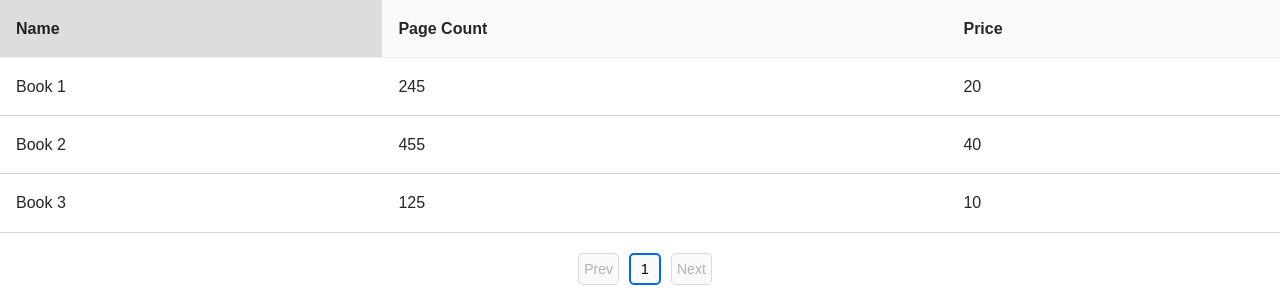
Test: Table.vue › clear sorting data
Step 1. Click the column heading with class "table-column" showing "Price" → (1114, 29), box [948,0,1279,58]
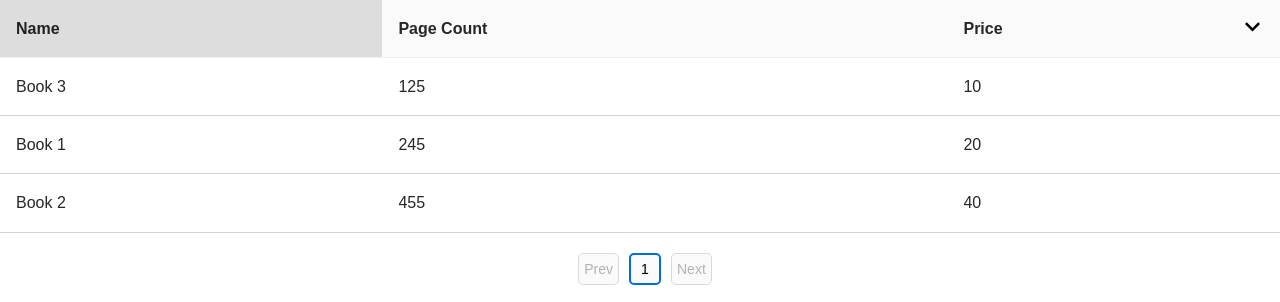
Step 2. Click the column heading with class "table-column" showing "Price" → (1114, 29), box [948,0,1279,58]
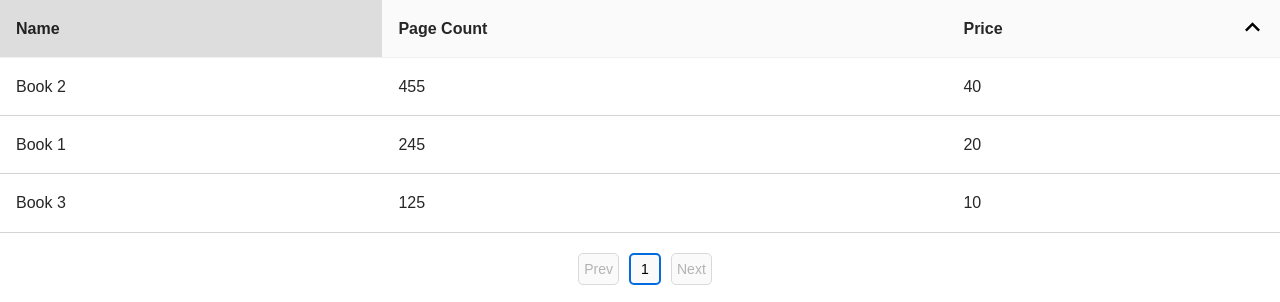
Step 3. Click the column heading with class "table-column" showing "Price" → (1114, 29), box [948,0,1279,58]
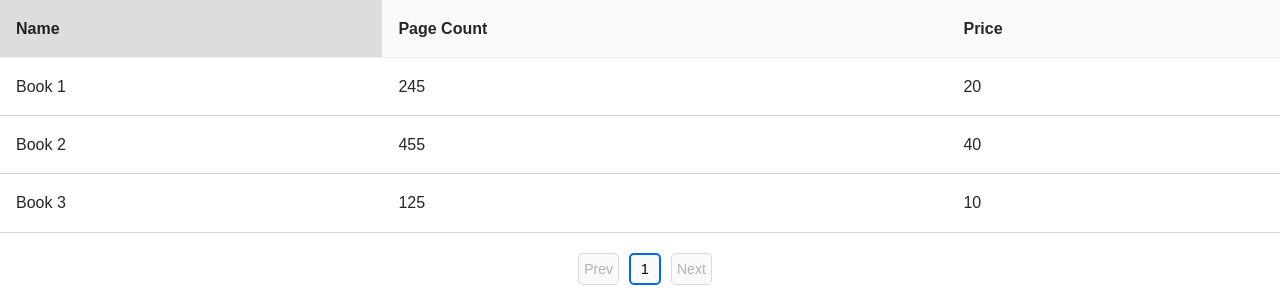
expect the cell "20" is shown: met, box [948,58,1279,116]
